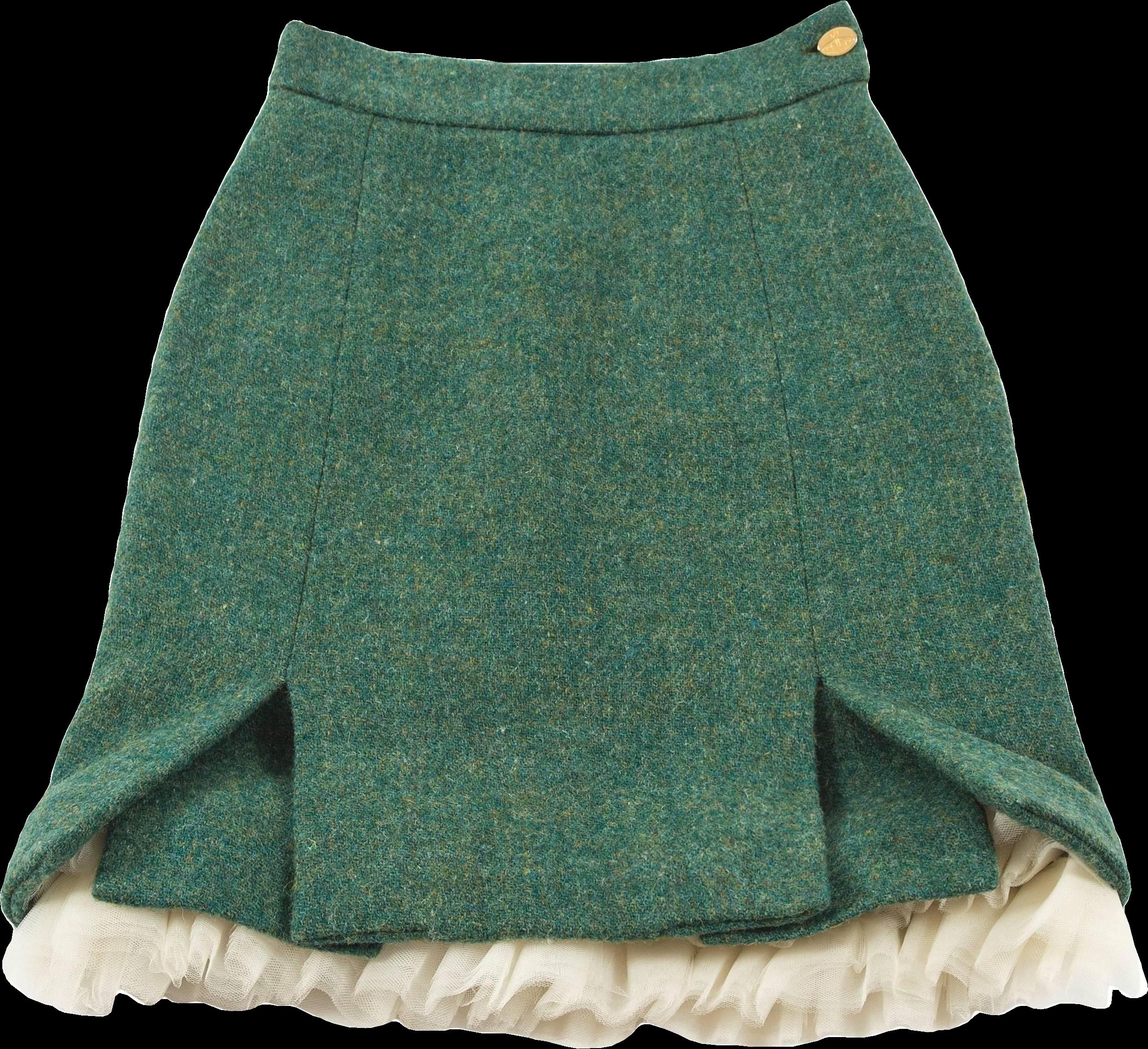Hemline: (8, 795, 1124, 964), (0, 926, 1145, 1034)
Waistline: (286, 0, 856, 77), (267, 68, 867, 140)
